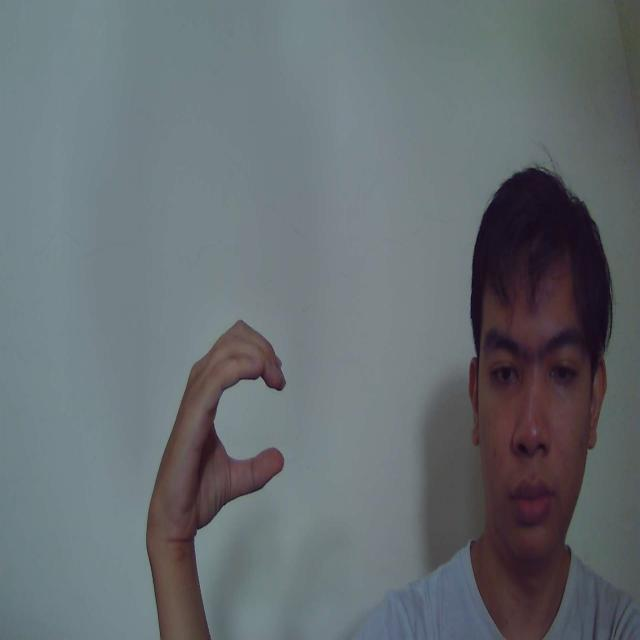C: (147, 319, 287, 541)
